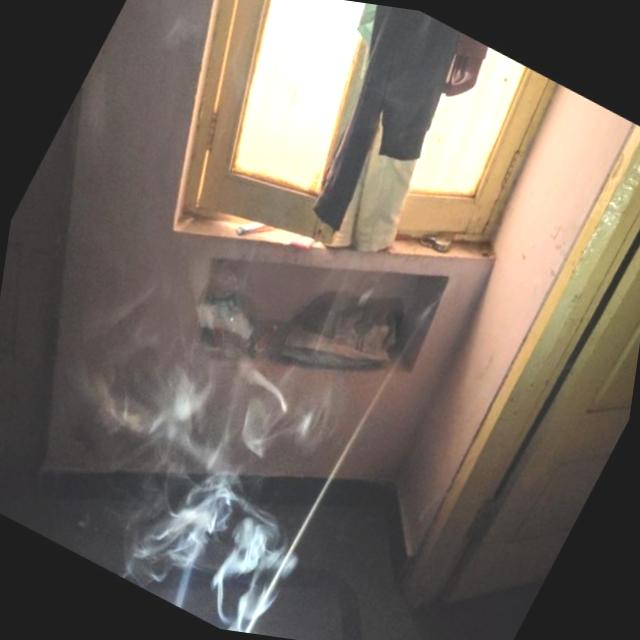smoke: (14, 213, 425, 640)
